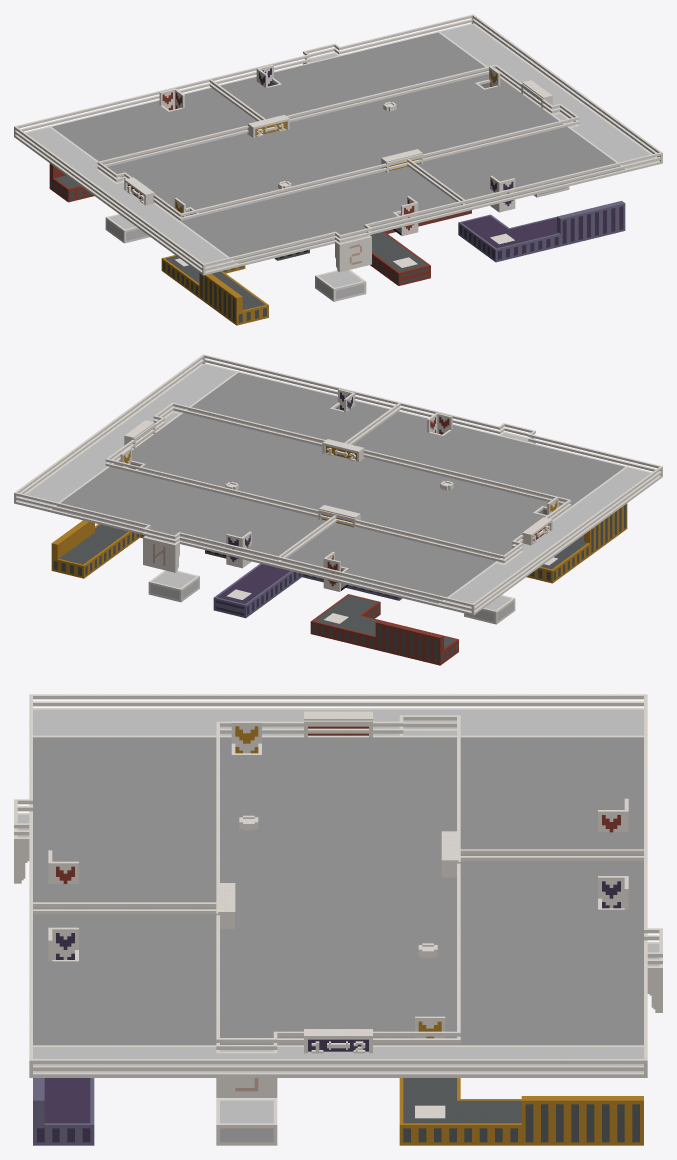
Rendered from minecraft.obj.
3 views of the same model, one above another, from view 1: azimuth 30°, elevation 25°; view 2: azimuth 150°, elevation 25°; view 3: azimuth 270°, elevation 25° (orthographic). The views are drawn at different scales.
Bounding box in the file's own units: 2270 × 350 × 1700.
